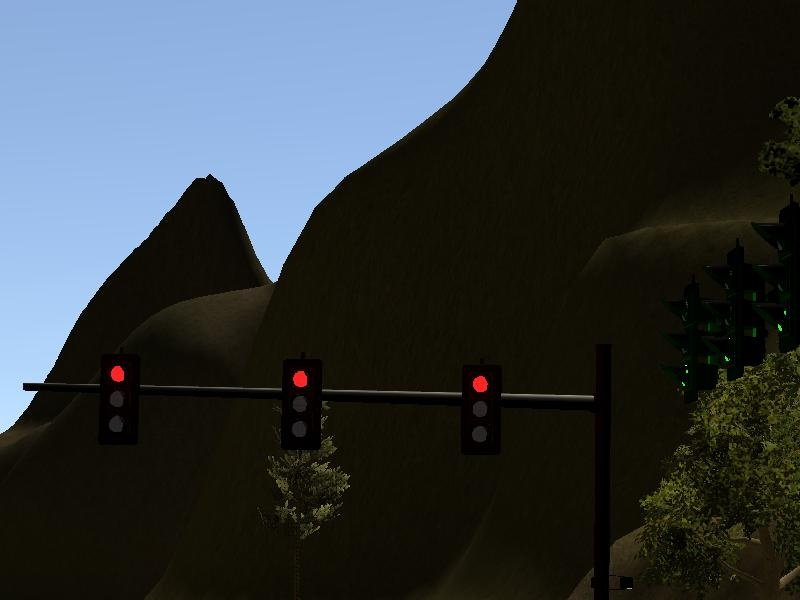RED: (457, 367, 505, 448), (277, 360, 322, 444), (99, 356, 141, 439)
